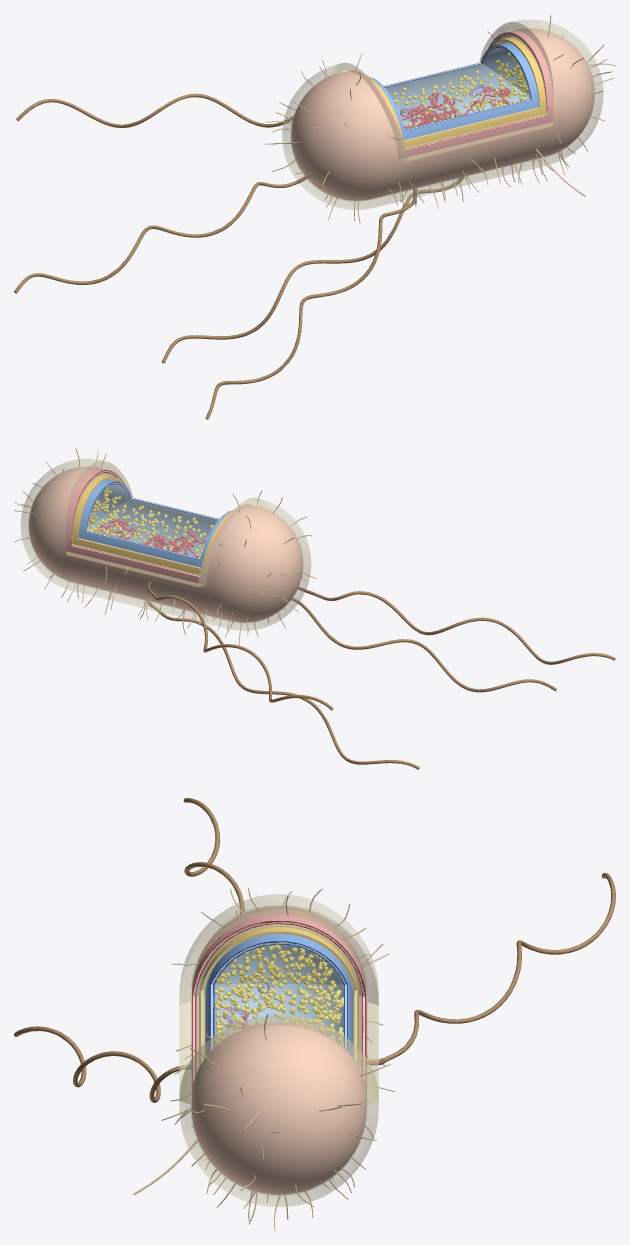
The model's file is bakteriecelle.glb.
3 renders of one model, top to bottom at view 1: azimuth 30°, elevation 25°; view 2: azimuth 150°, elevation 25°; view 3: azimuth 270°, elevation 25°, orthographic. The views are drawn at different scales.
Parts seen in each view (by area): view 1: Capsule, Outer_Membrane, Inner_Membrane, Cytoplasm, Peptidoglycan, Ribosomes_70S, Pili, Flagellum_4_Filament, Flagellum_1_Filament, Flagellum_2_Filament, Nucleoid_DNA, Flagellum_3_Filament; view 2: Capsule, Outer_Membrane, Inner_Membrane, Cytoplasm, Peptidoglycan, Ribosomes_70S, Pili, Flagellum_1_Filament, Flagellum_4_Filament, Flagellum_2_Filament, Flagellum_3_Filament, Nucleoid_DNA; view 3: Capsule, Outer_Membrane, Cytoplasm, Inner_Membrane, Ribosomes_70S, Peptidoglycan, Pili, Flagellum_3_Filament, Periplasm, Flagellum_2_Filament, Flagellum_1_Filament.
Boxes of the visible parts, x1,y1,x2,y2 form: Capsule: (282, 19, 603, 209); Outer_Membrane: (291, 28, 594, 200); Inner_Membrane: (370, 42, 539, 140); Cytoplasm: (385, 48, 530, 128); Peptidoglycan: (366, 36, 546, 149); Ribosomes_70S: (392, 52, 530, 128); Pili: (265, 14, 615, 223); Flagellum_4_Filament: (161, 182, 457, 363); Flagellum_1_Filament: (14, 181, 297, 293); Flagellum_2_Filament: (205, 202, 412, 419); Nucleoid_DNA: (401, 86, 511, 129); Flagellum_3_Filament: (16, 93, 293, 127); Capsule: (20, 458, 311, 630); Outer_Membrane: (29, 467, 302, 622); Inner_Membrane: (78, 479, 230, 567); Cytoplasm: (87, 484, 217, 557); Peptidoglycan: (71, 474, 234, 575); Ribosomes_70S: (86, 486, 213, 556); Pili: (14, 448, 316, 645); Flagellum_1_Filament: (314, 591, 615, 664); Flagellum_4_Filament: (152, 605, 419, 769); Flagellum_2_Filament: (291, 597, 556, 692); Flagellum_3_Filament: (149, 590, 333, 710); Nucleoid_DNA: (97, 519, 205, 557); Capsule: (179, 894, 378, 1207); Outer_Membrane: (191, 906, 366, 1194); Cytoplasm: (214, 944, 343, 1045); Inner_Membrane: (205, 934, 352, 1056); Ribosomes_70S: (214, 944, 343, 1046); Peptidoglycan: (199, 924, 359, 1066); Pili: (161, 888, 394, 1230); Flagellum_3_Filament: (384, 873, 615, 1062); Periplasm: (196, 924, 361, 1071); Flagellum_2_Filament: (14, 1026, 190, 1102); Flagellum_1_Filament: (183, 798, 244, 914).
Bounding box in the file's own units: 34.82 × 13.71 × 21.48.
18 materials, 2 textured.
